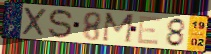8: (81, 11, 104, 42), (165, 16, 187, 48)
E: (136, 15, 163, 46)
M: (100, 12, 137, 45)
S: (47, 8, 74, 40)
X: (20, 6, 48, 38)
